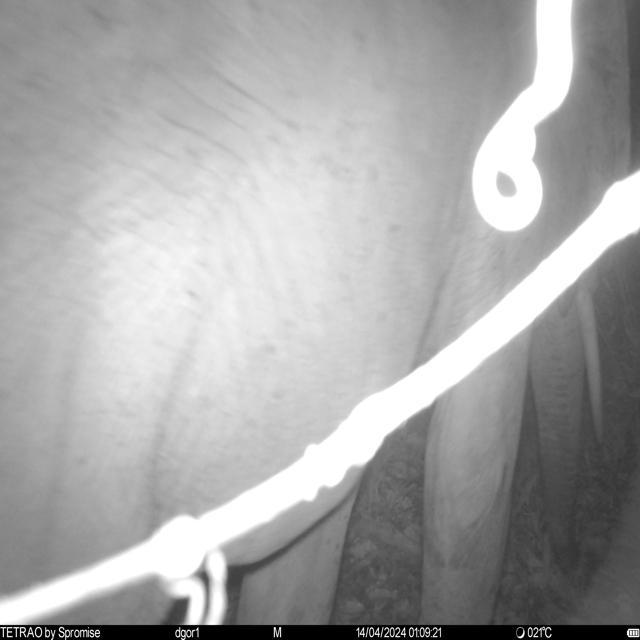elephant: (0, 0, 634, 628)
tusk: (575, 291, 608, 449)
